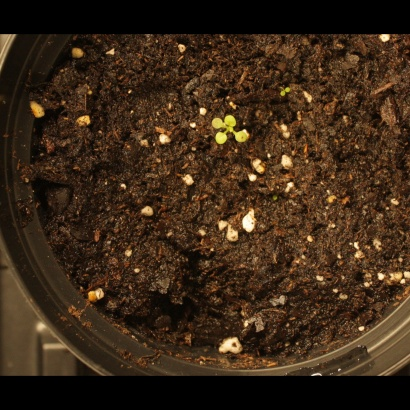leaf: (206, 133, 229, 156), (201, 111, 224, 134), (224, 107, 247, 130), (229, 128, 252, 151)
